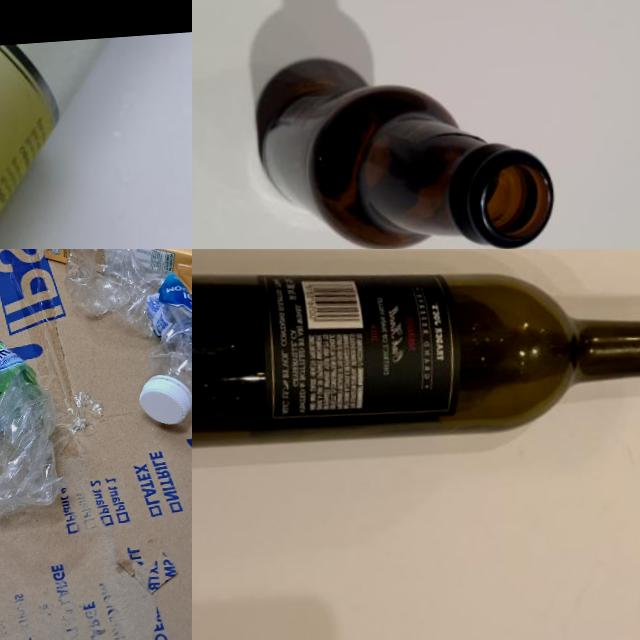caixinha: (38, 249, 192, 306)
garrafa de vidro: (192, 249, 640, 457), (256, 71, 557, 249), (0, 37, 140, 249)
garrafa plástica: (61, 249, 192, 409), (0, 329, 66, 527)
papelão: (0, 249, 192, 640)
tampa plástica: (136, 374, 192, 426)
